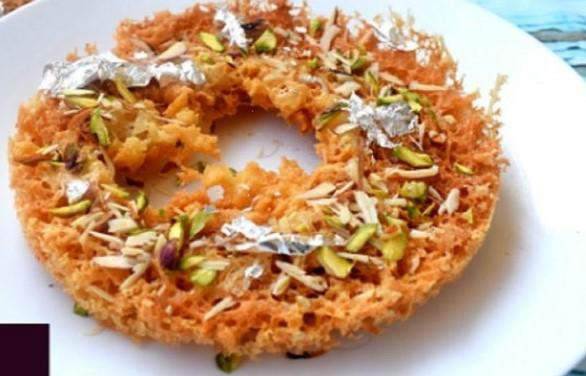Ghevar: (7, 0, 508, 357)
